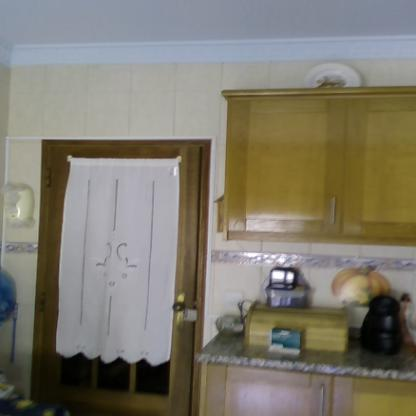door: (48, 146, 196, 416)
hinged: (39, 293, 48, 314), (44, 167, 52, 188)
knob: (170, 298, 186, 313)
